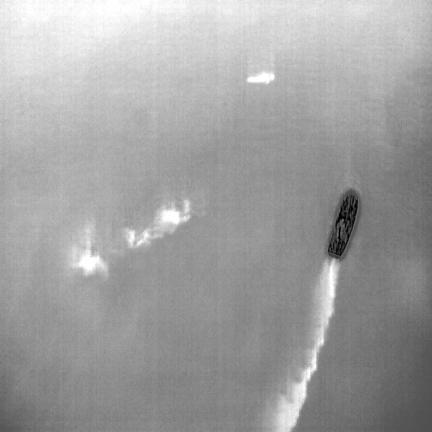flukeprints: (78, 248, 105, 274), (136, 229, 159, 246), (246, 72, 274, 84), (161, 209, 180, 224), (125, 229, 136, 247)
